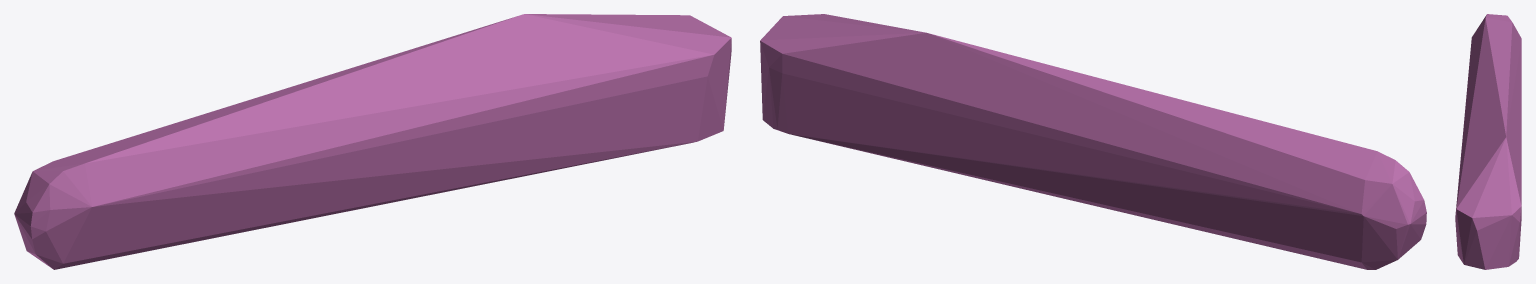
File: suspension_control_arm_lower_left_a01.glb
3 renders of one model, left to right at view 1: azimuth 30°, elevation 25°; view 2: azimuth 150°, elevation 25°; view 3: azimuth 270°, elevation 25°, orthographic. The views are drawn at different scales.
Visible parts, largest first — view 1: geometry_0; view 2: geometry_0; view 3: geometry_0.
Boxes of the visible parts, x1,y1,x2,y2 form: geometry_0: [14, 14, 731, 269]; geometry_0: [760, 14, 1426, 269]; geometry_0: [1455, 14, 1521, 269].
Size of the model in its own units: 0.4777 by 0.089 by 0.0658.
